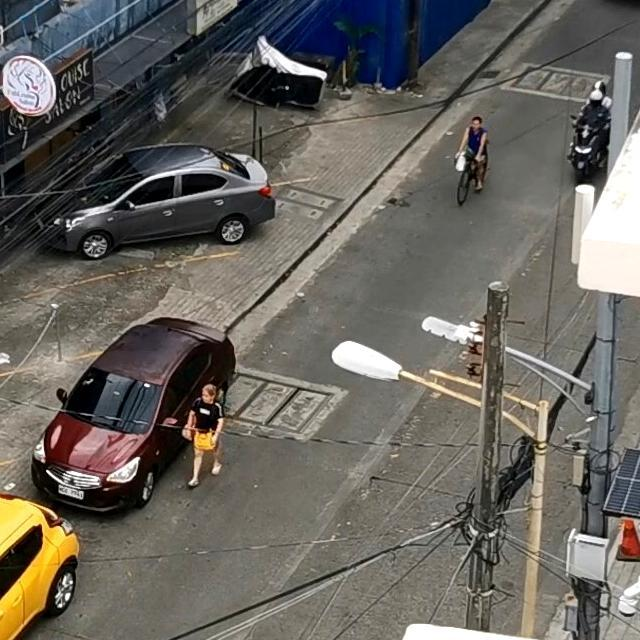Motorcycle: (568, 70, 628, 186)
